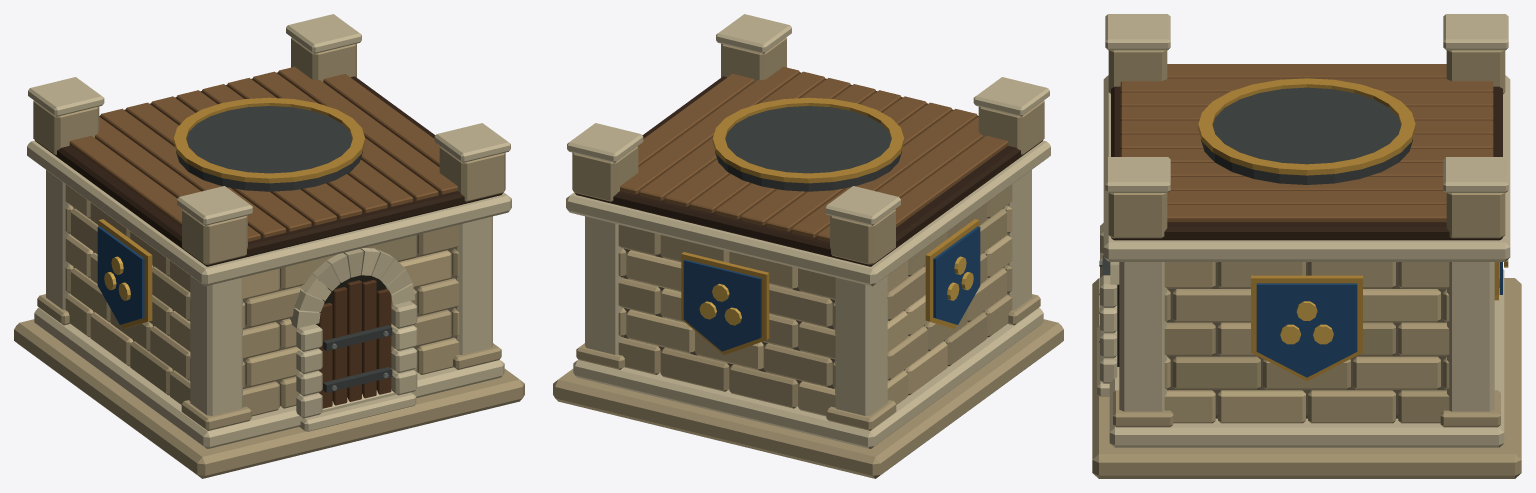
3 renders of one model, left to right at view 1: azimuth 30°, elevation 25°; view 2: azimuth 150°, elevation 25°; view 3: azimuth 270°, elevation 25°, orthographic. The views are drawn at different scales.
Parts seen in each view (by area): view 1: Stone, Timber, Metal, Fabric; view 2: Stone, Timber, Metal, Fabric; view 3: Stone, Timber, Metal, Fabric.
Boxes of the visible parts, <box> form: Stone: <box>14,14,524,478</box>; Timber: <box>35,66,502,408</box>; Metal: <box>98,97,392,392</box>; Fabric: <box>97,226,144,324</box>; Stone: <box>553,14,1063,478</box>; Timber: <box>575,66,1042,266</box>; Metal: <box>681,97,979,354</box>; Fabric: <box>683,226,980,351</box>; Stone: <box>1092,14,1521,478</box>; Timber: <box>1111,64,1502,240</box>; Metal: <box>1099,78,1508,381</box>; Fabric: <box>1256,262,1502,377</box>.
Bounding box in the file's own units: 4.98 × 3.75 × 4.98.
